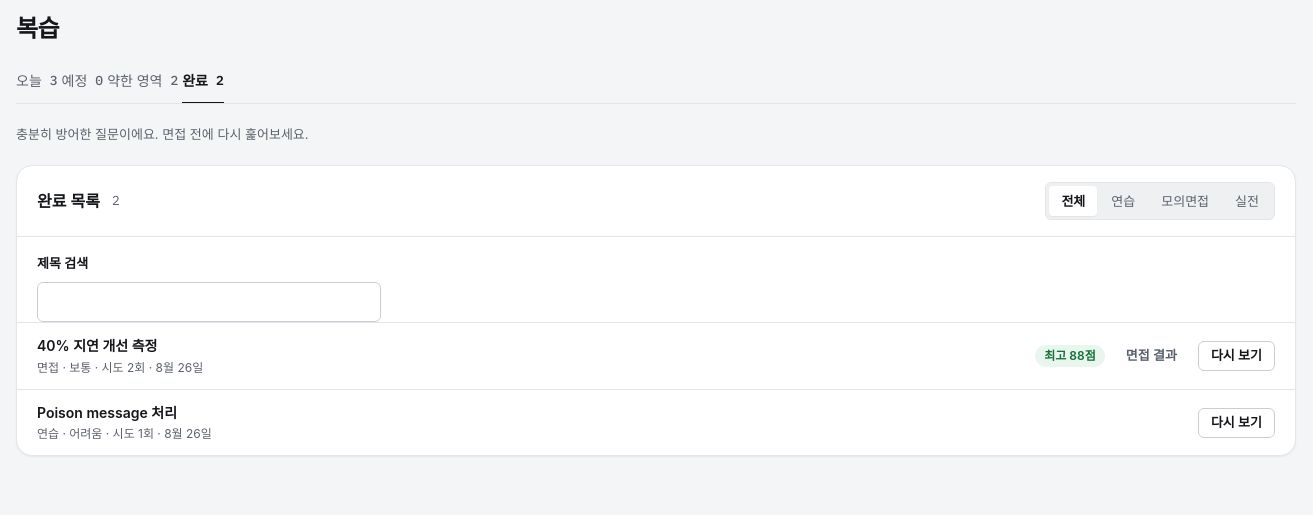
Test: ArchivePage › filters by source and title
This screenshot has width=1313, height=515.
Click the radio button labelled "연습": coordinates (1123, 201) x1=1099 y1=186 x2=1147 y2=216
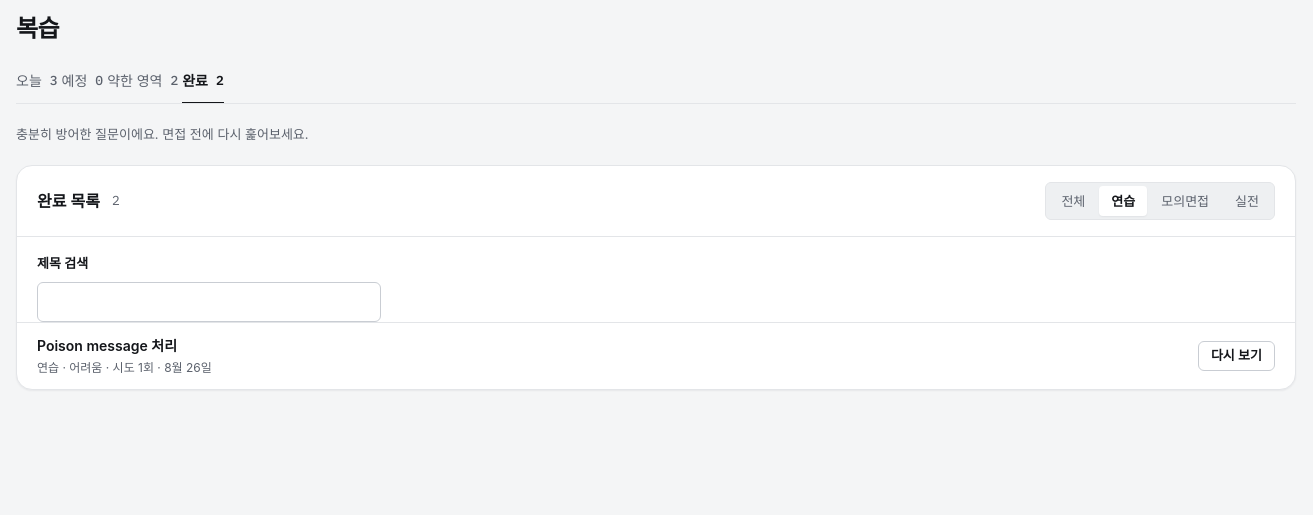
Expected: the text "Poison message 처리" is shown, x1=37 y1=337 x2=177 y2=354
Now the text "40% 지연 개선 측정" is gone
In the search field labelled "제목 검색": coordinates (209, 302) x1=37 y1=282 x2=381 y2=322, type "없는 제목"
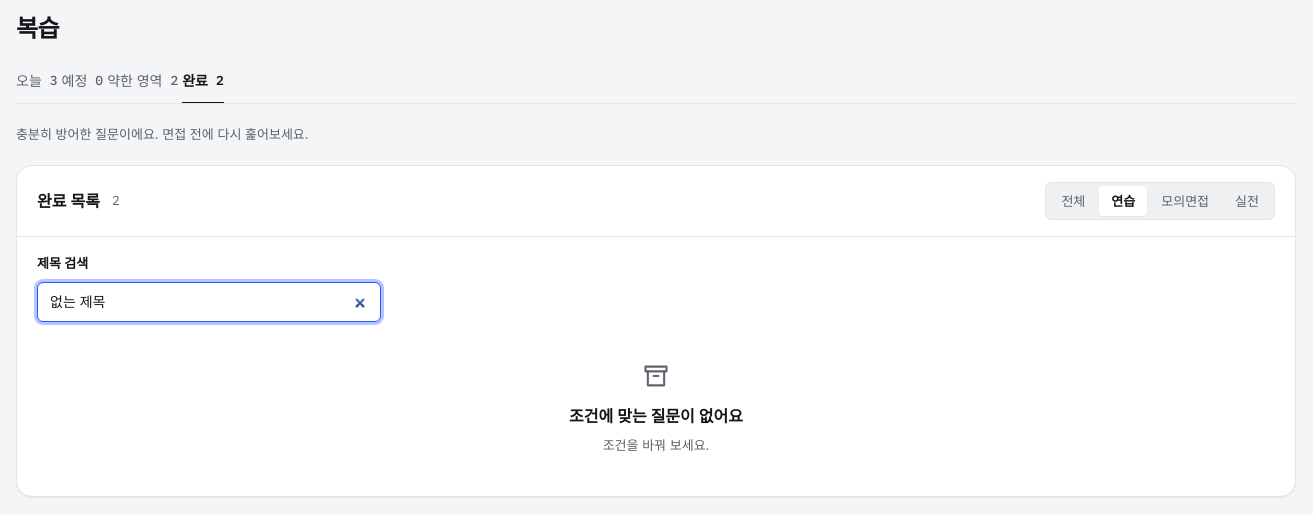
Now the heading "조건에 맞는 질문이 없어요" is shown, box x1=569 y1=406 x2=743 y2=427
